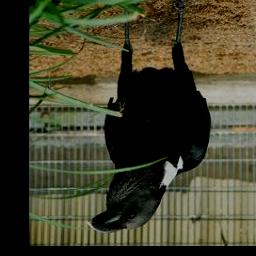Crow: (84, 0, 211, 234)
